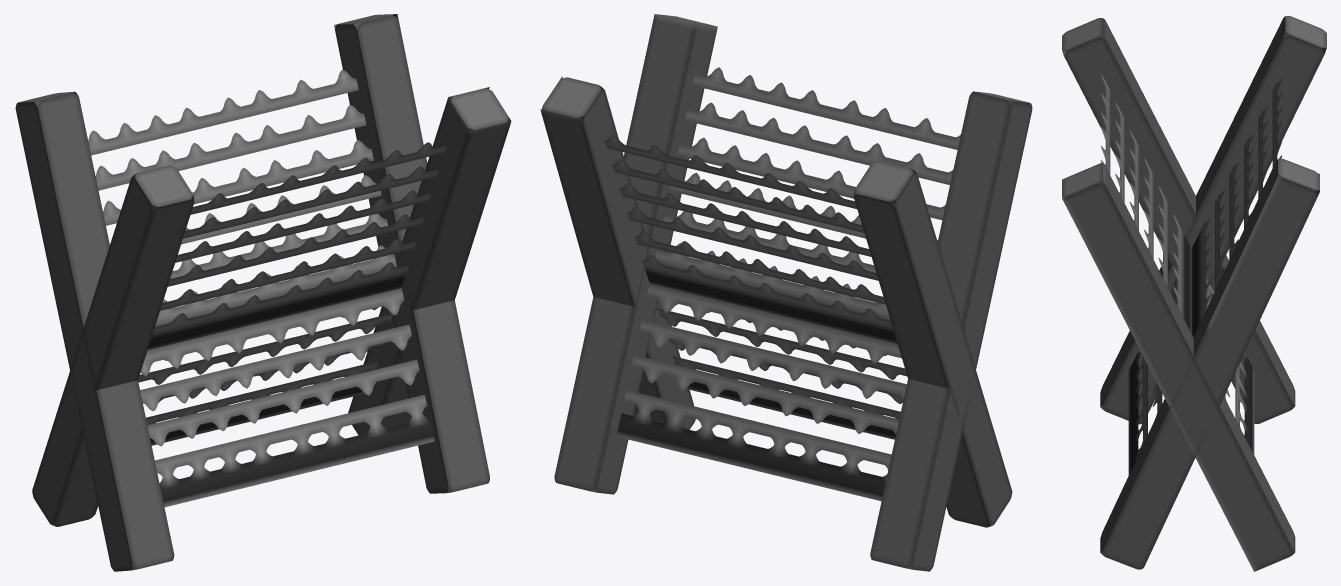
File: wire.obj
3 renders of one model, left to right at view 1: azimuth 30°, elevation 25°; view 2: azimuth 150°, elevation 25°; view 3: azimuth 270°, elevation 25°, orthographic. The views are drawn at different scales.
Parts seen in each view (by area): view 1: tela.000; view 2: tela.000; view 3: tela.000.
Boxes of the visible parts, bbox=[...] form: tela.000: bbox=[15, 14, 511, 571]; tela.000: bbox=[540, 14, 1032, 571]; tela.000: bbox=[1062, 16, 1326, 571].
Size of the model in its own units: 0.8052 by 0.9005 by 0.5453.
